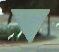Give way: (8, 3, 51, 45)
